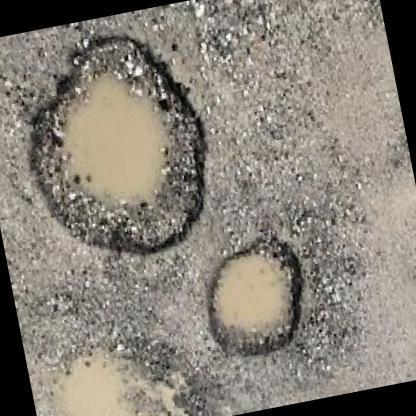pothole: (27, 27, 218, 257), (43, 331, 204, 416), (209, 230, 310, 358)
